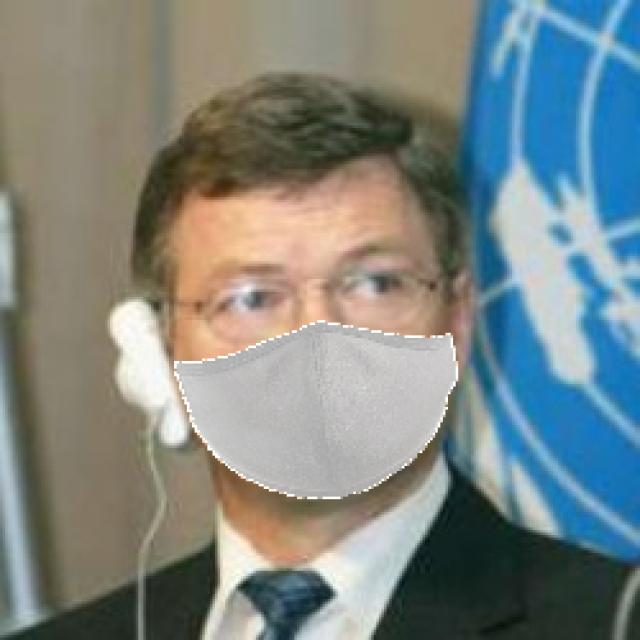mask: (166, 332, 487, 526)
